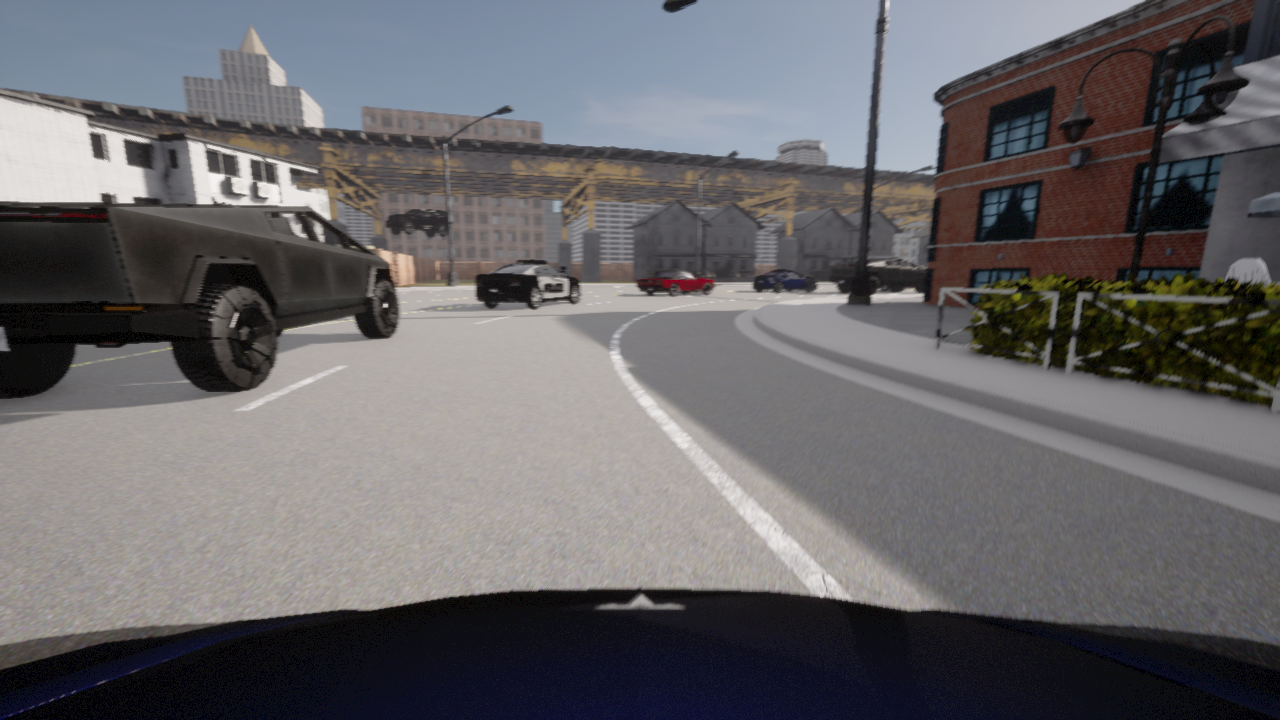cyclist: (0, 588, 1279, 719), (475, 259, 580, 308), (829, 258, 927, 293), (637, 270, 714, 295), (386, 209, 447, 235), (753, 270, 816, 291), (879, 285, 913, 290)
